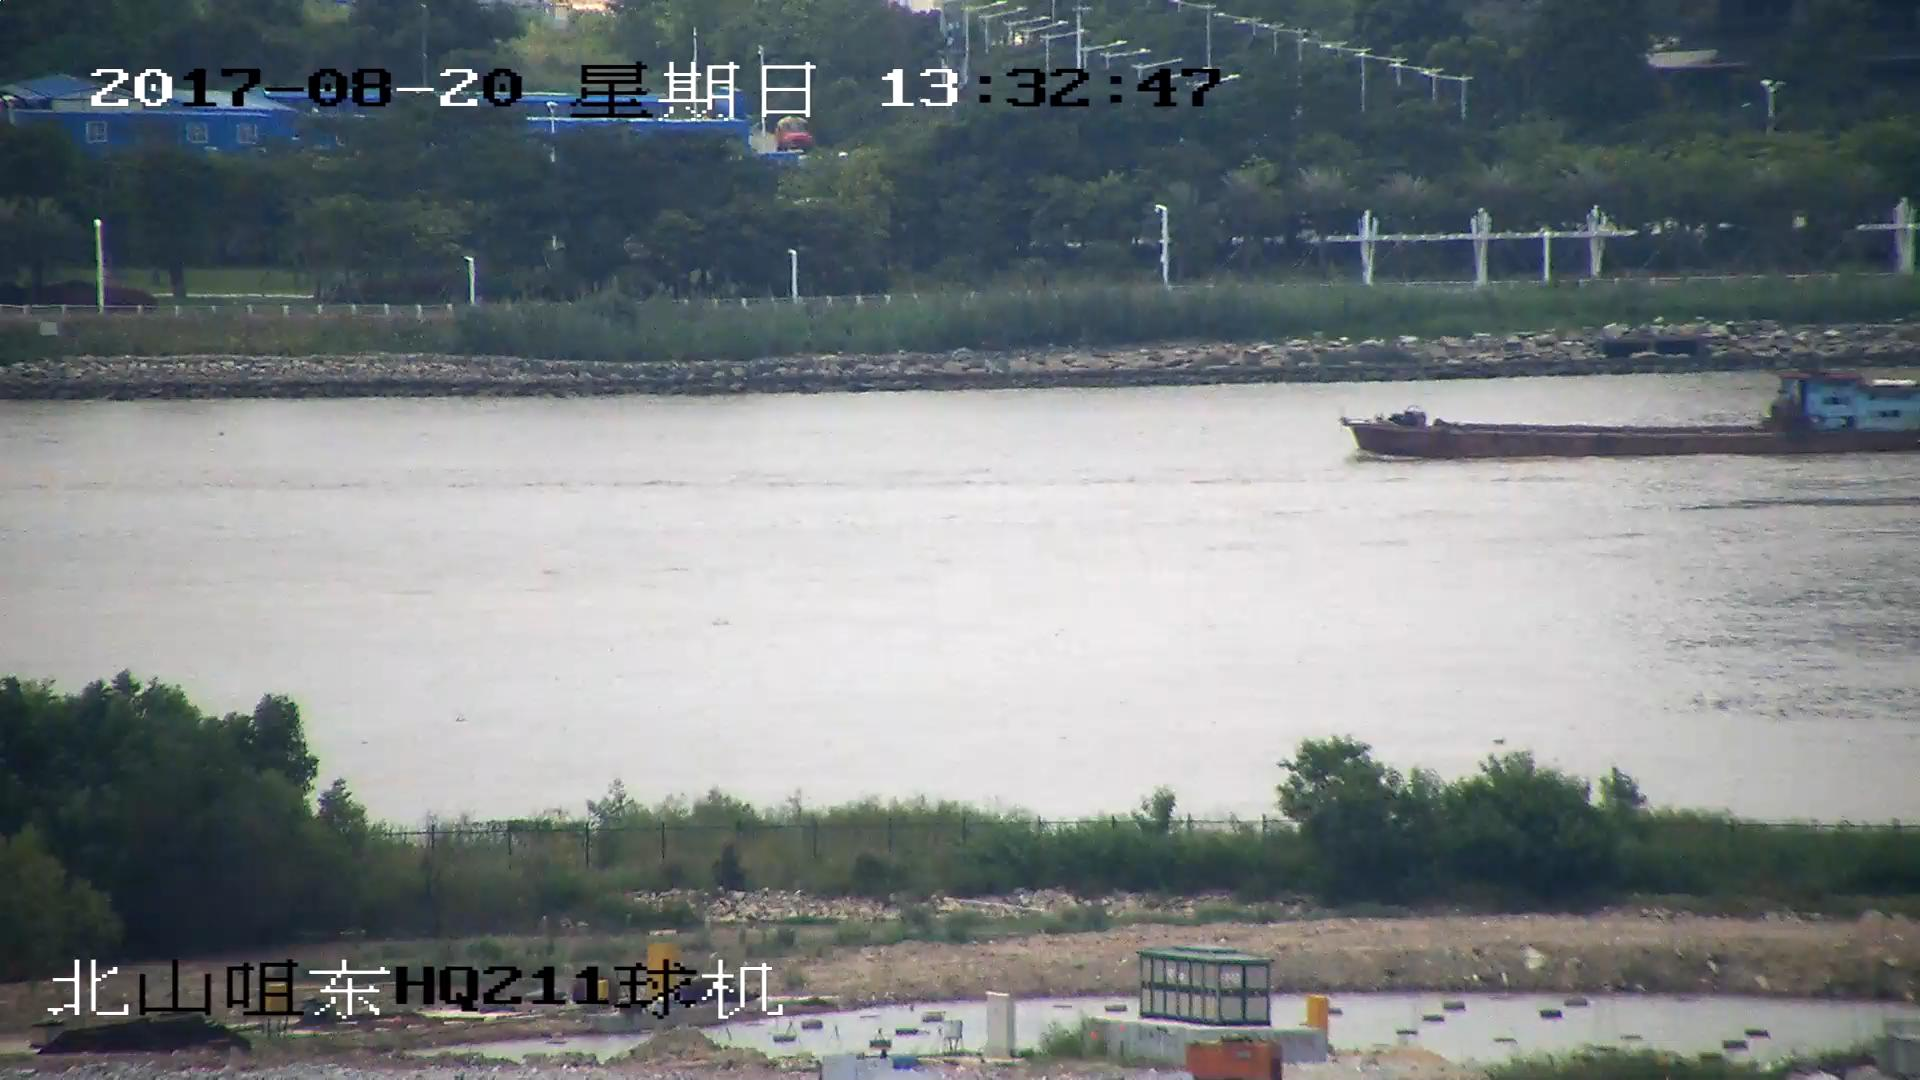bulk cargo carrier: (1350, 380, 1920, 456)
